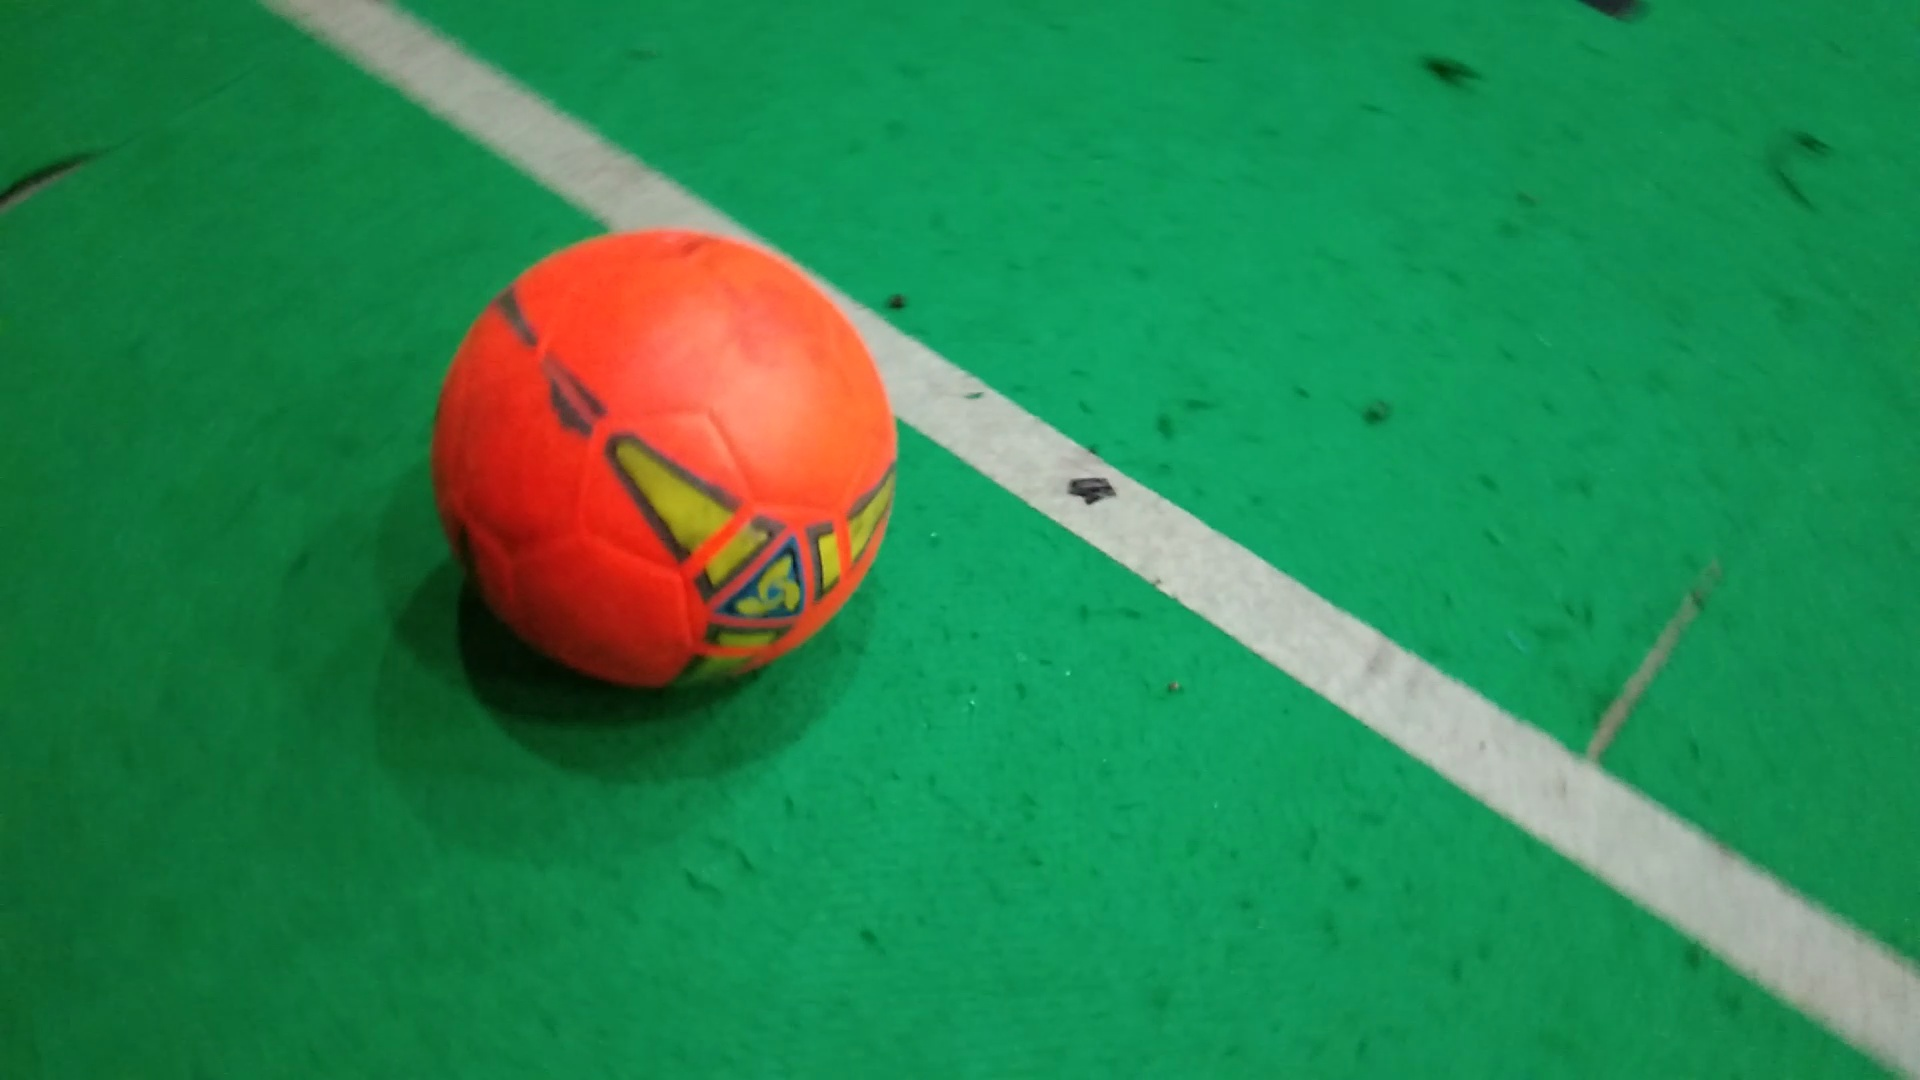bola: (415, 208, 924, 738)
